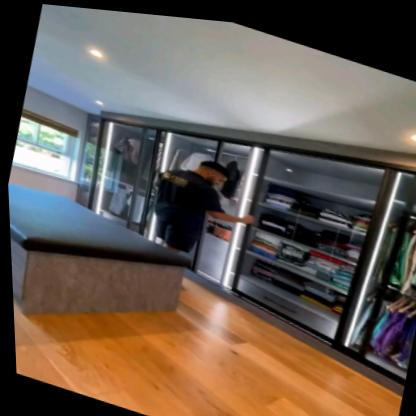Transparent Closet: (74, 109, 416, 379)
